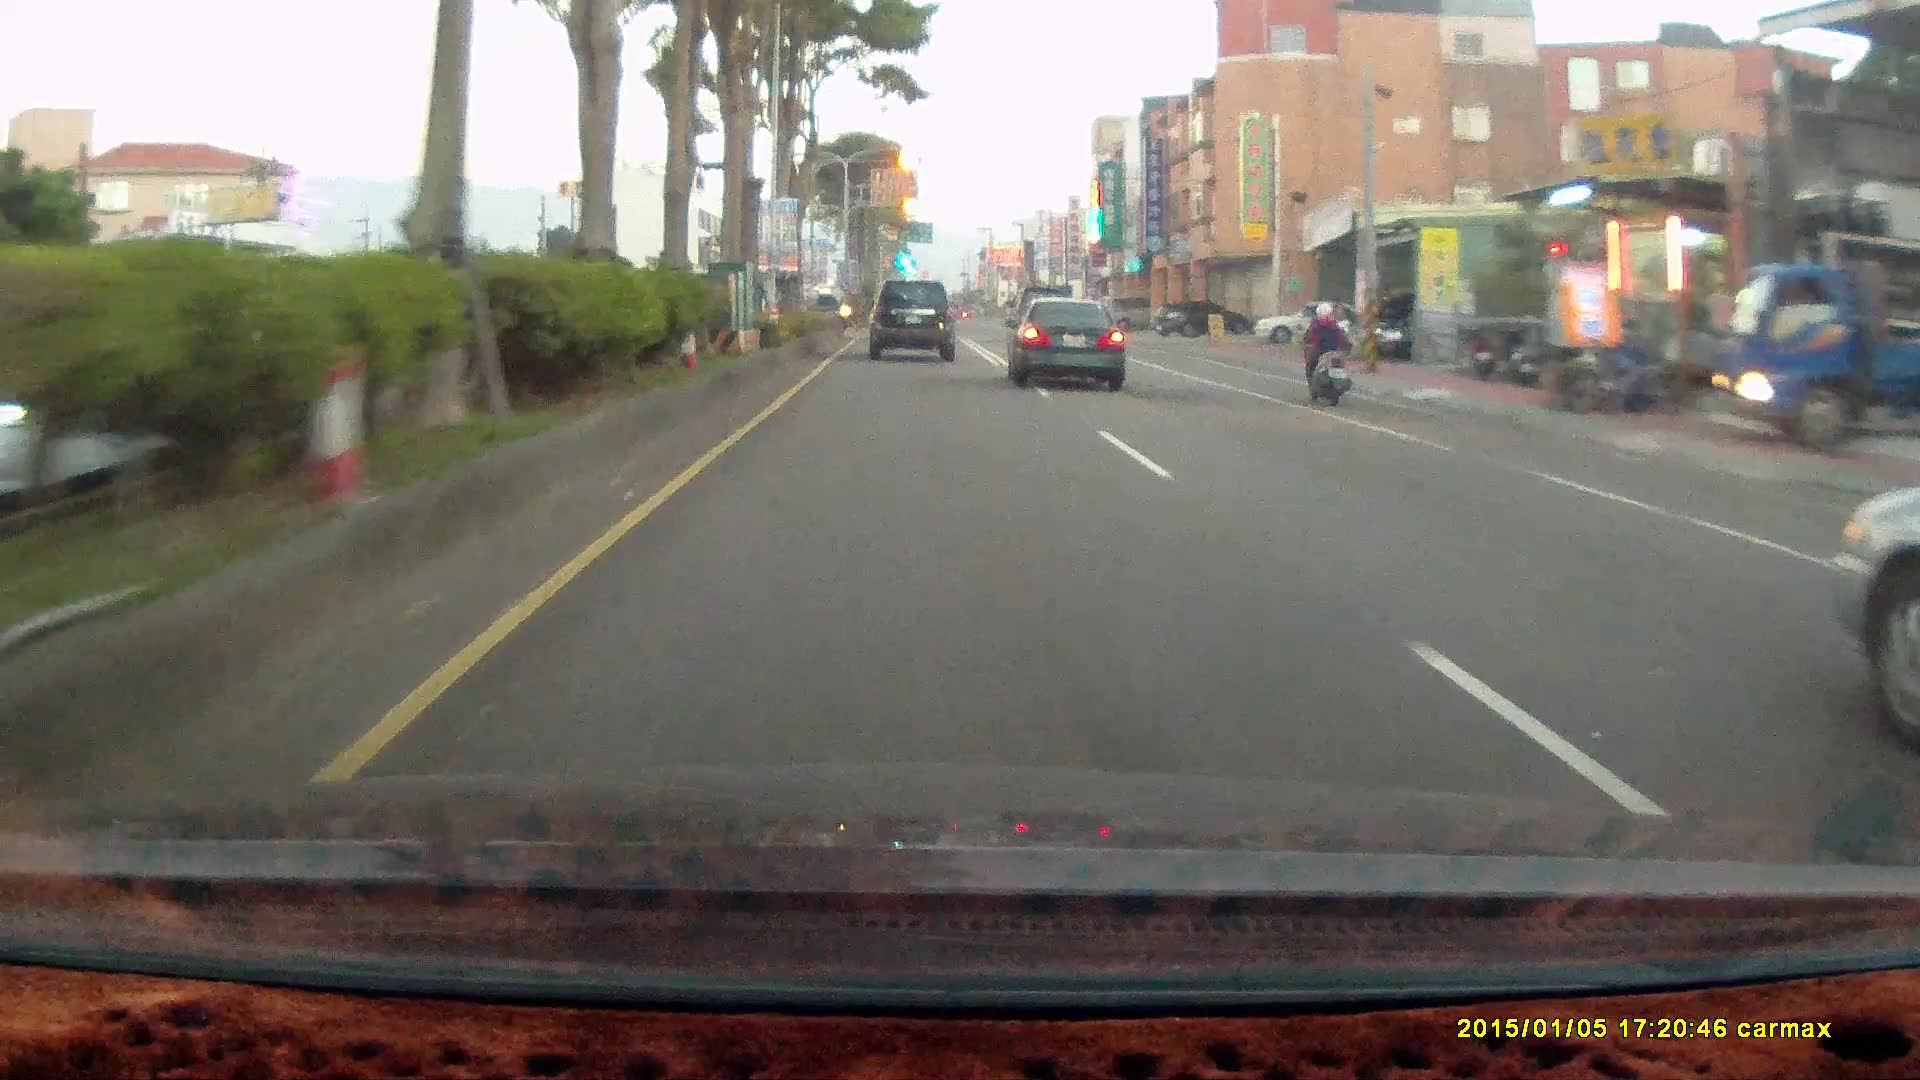rider: (1290, 290, 1364, 416), (1292, 299, 1351, 404)
vehicle: (1711, 259, 1920, 455), (1711, 258, 1920, 454), (1824, 476, 1919, 759), (1011, 295, 1133, 391), (1004, 293, 1127, 386), (1370, 298, 1492, 362), (872, 276, 959, 363), (867, 277, 953, 360), (1254, 298, 1375, 345), (1156, 298, 1248, 343), (1153, 298, 1246, 337), (1101, 292, 1173, 329)
